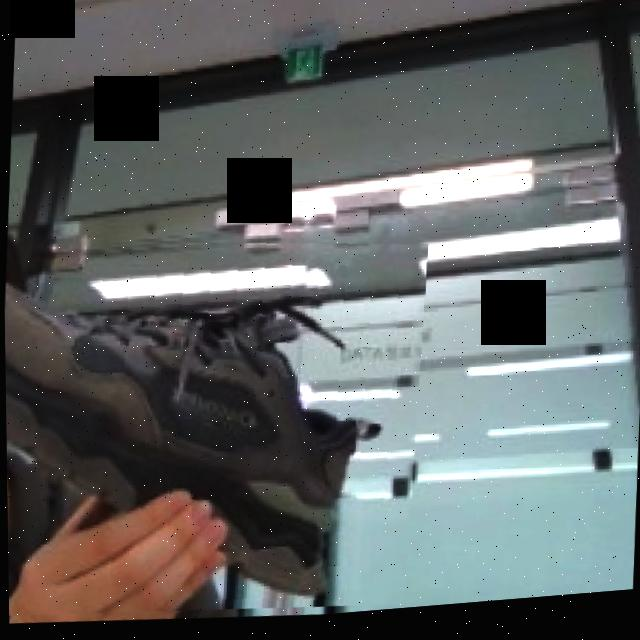shoe: (3, 214, 432, 636)
